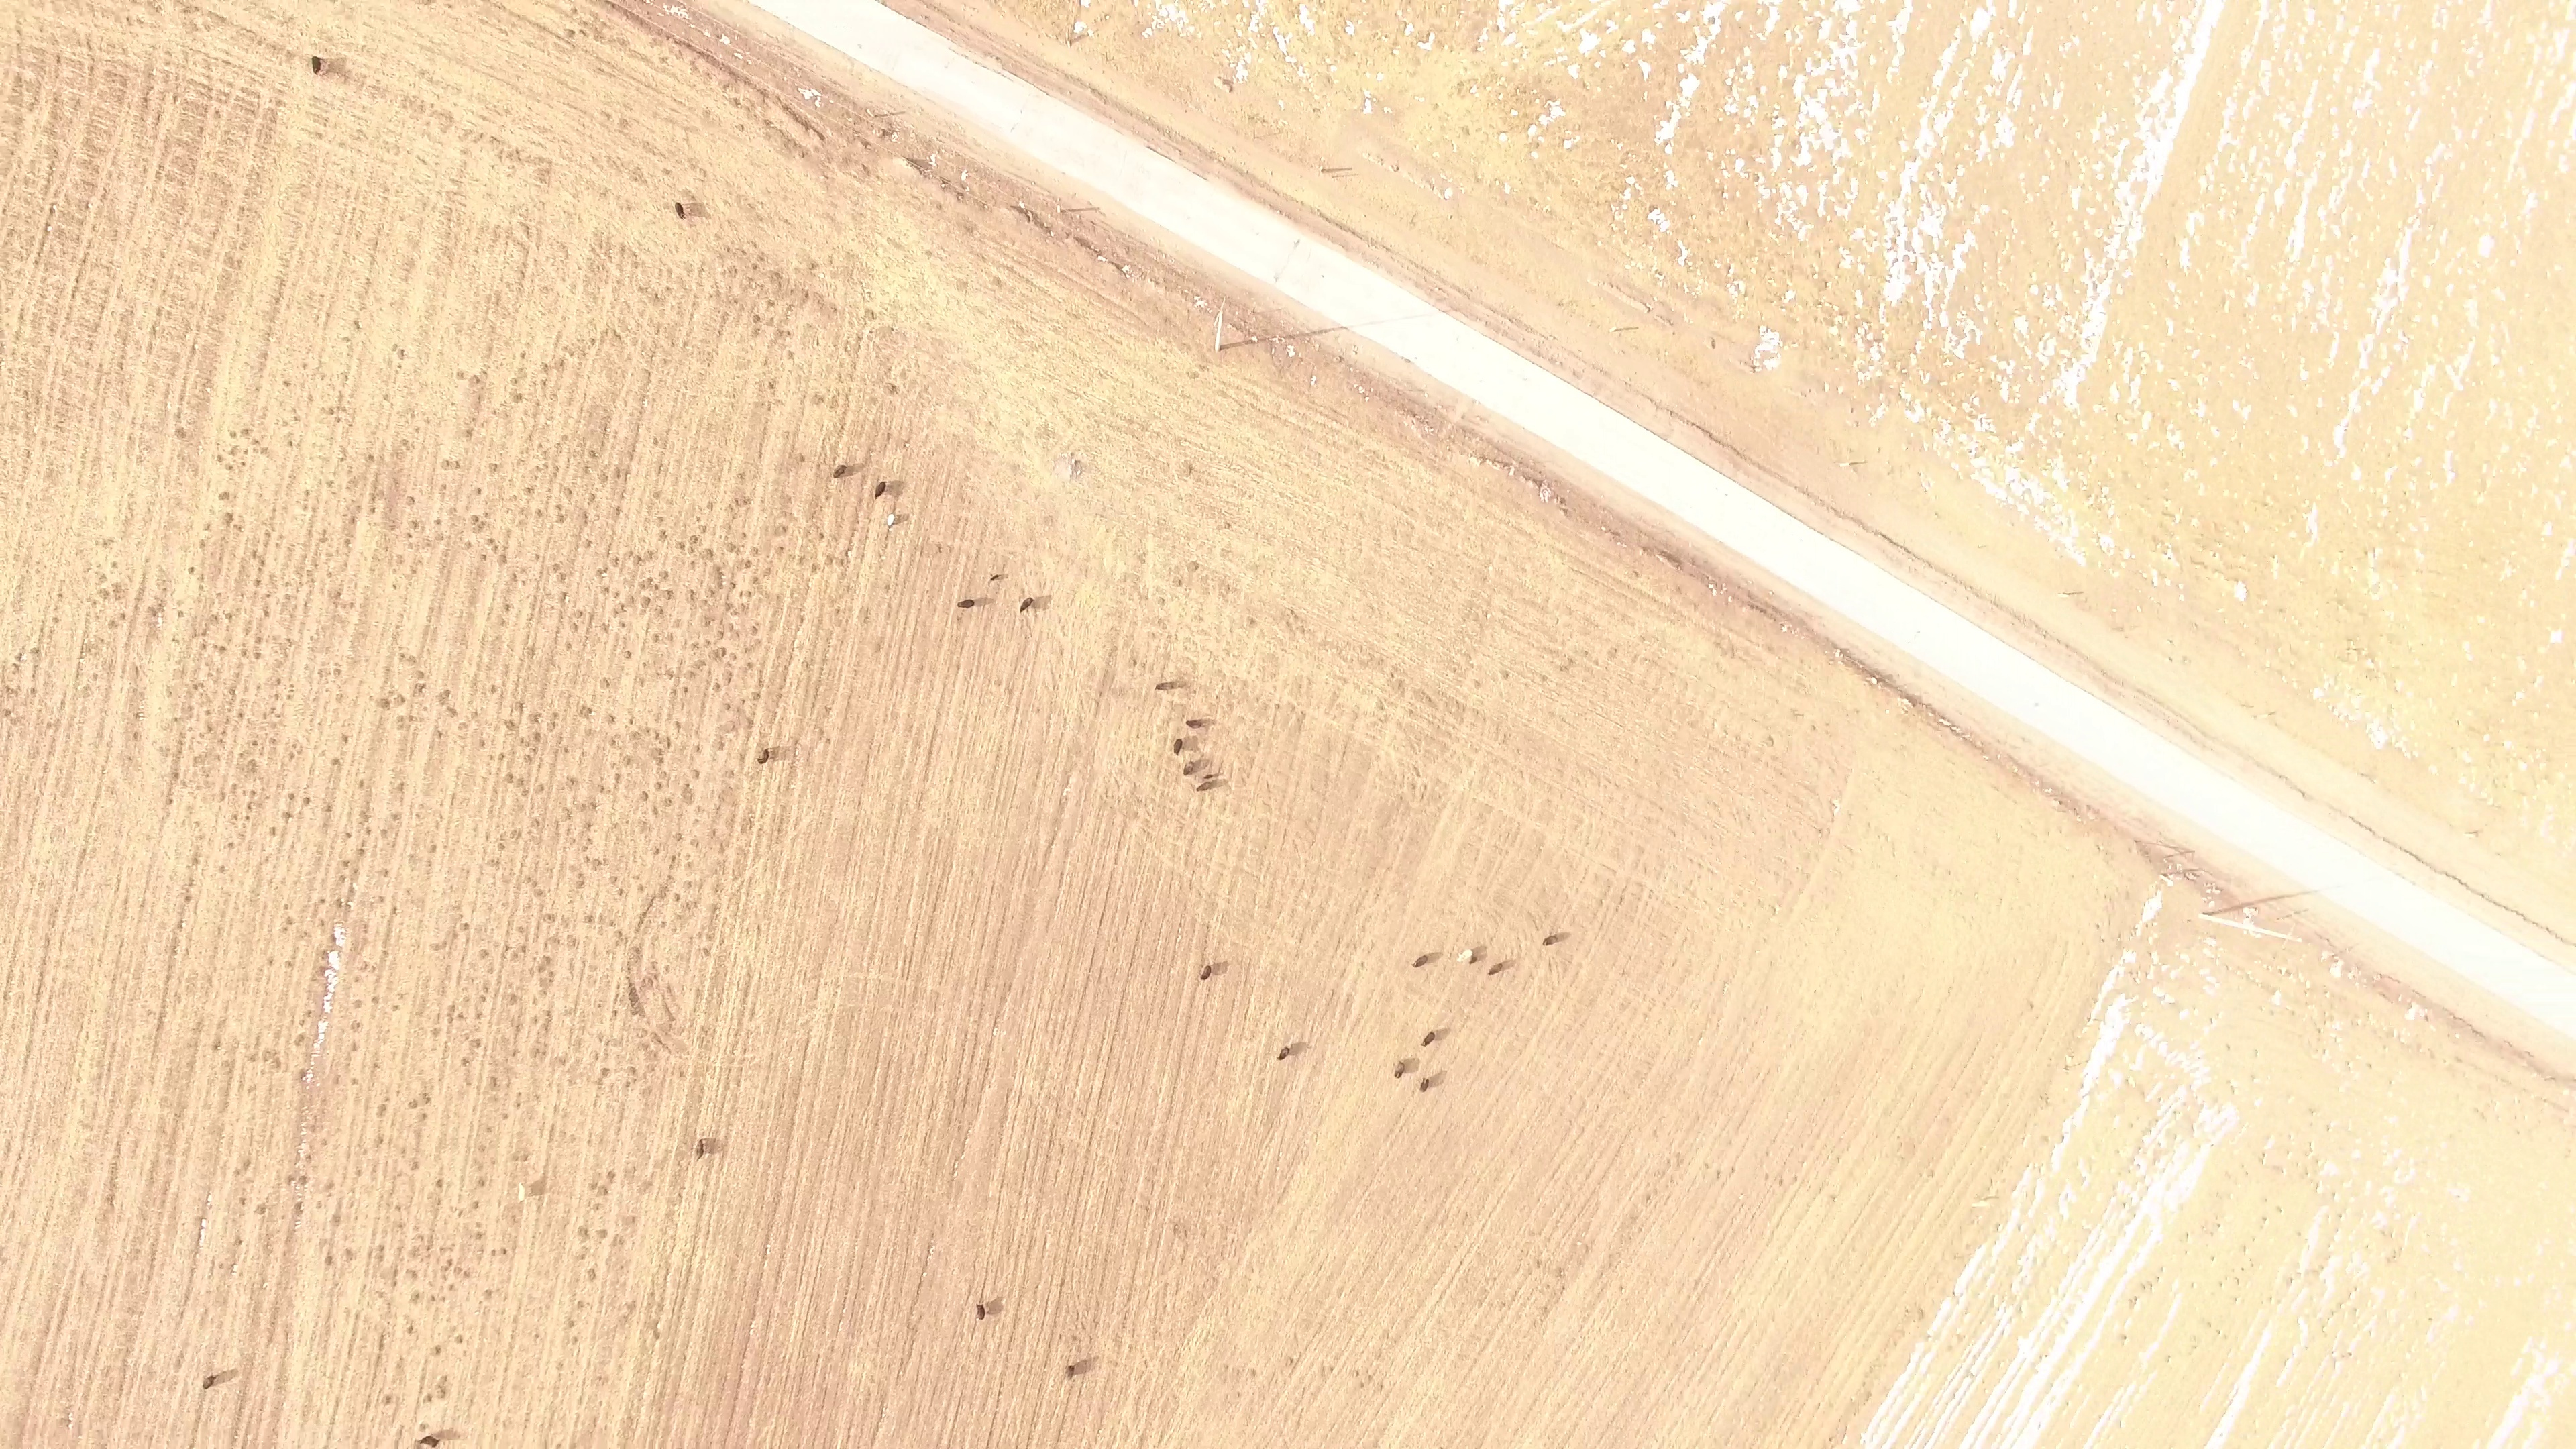sheep: (754, 744, 775, 767), (692, 1138, 710, 1163), (1181, 716, 1210, 733), (830, 461, 851, 482), (1409, 952, 1433, 970), (308, 52, 325, 78), (199, 1371, 220, 1393), (1420, 1028, 1440, 1049), (1179, 757, 1200, 779), (513, 1180, 530, 1203), (1486, 961, 1509, 978), (871, 478, 890, 500), (1152, 678, 1177, 693), (416, 1434, 441, 1449), (973, 1302, 991, 1323), (1197, 963, 1216, 983), (1017, 594, 1035, 616), (1454, 947, 1477, 963), (1541, 932, 1564, 949), (1391, 1061, 1409, 1080), (1275, 1044, 1293, 1063), (1171, 735, 1187, 757), (953, 596, 976, 611), (1417, 1077, 1434, 1095), (1194, 780, 1216, 794), (1470, 956, 1478, 965)
unknown: (1654, 545, 1687, 574), (1653, 108, 1681, 142), (1063, 1356, 1095, 1381), (1746, 598, 1784, 619), (790, 110, 815, 133), (2220, 899, 2255, 916), (319, 947, 342, 972), (625, 984, 645, 1012), (528, 1174, 549, 1199), (686, 193, 706, 220), (1679, 73, 1699, 99), (1522, 472, 1546, 490), (906, 155, 932, 172), (2133, 837, 2152, 858), (1701, 427, 1722, 446), (1073, 234, 1095, 252), (722, 62, 742, 81), (676, 38, 699, 55), (713, 563, 726, 592), (1216, 339, 1244, 353), (327, 926, 343, 946), (672, 199, 688, 221), (712, 645, 729, 661), (1220, 76, 1236, 95), (1267, 202, 1287, 217), (376, 1333, 387, 1354), (1688, 554, 1705, 572), (316, 963, 333, 979), (377, 696, 393, 712), (173, 425, 190, 441), (1334, 221, 1352, 235), (1284, 211, 1301, 225), (322, 1252, 336, 1269), (296, 1173, 309, 1188), (579, 703, 595, 716), (1837, 645, 1855, 661), (217, 489, 233, 502), (291, 1199, 305, 1218), (637, 908, 650, 926), (1640, 543, 1657, 555), (222, 509, 236, 528), (1550, 105, 1568, 119), (601, 1, 619, 12), (650, 1328, 663, 1342), (597, 1226, 610, 1241), (280, 809, 294, 822), (358, 808, 371, 822), (300, 794, 313, 808), (1794, 616, 1809, 629), (146, 604, 160, 619), (1745, 590, 1758, 604), (1405, 405, 1419, 420), (437, 1385, 449, 1401), (297, 1066, 309, 1081), (333, 896, 345, 911), (531, 729, 543, 745), (884, 511, 897, 528), (351, 317, 363, 332), (1664, 170, 1676, 185), (1241, 337, 1258, 347), (382, 1393, 394, 1407), (432, 1343, 444, 1357), (390, 1266, 401, 1280), (343, 1246, 355, 1260), (330, 1212, 343, 1226), (433, 1176, 445, 1191), (284, 1173, 299, 1185), (604, 1168, 618, 1183), (378, 1101, 389, 1114), (409, 1097, 421, 1111), (295, 1032, 307, 1045), (541, 953, 554, 968), (181, 892, 195, 905), (252, 649, 264, 663), (1828, 639, 1841, 653), (1782, 611, 1794, 625), (641, 594, 654, 606), (331, 589, 344, 602), (498, 551, 510, 566), (1557, 494, 1569, 507), (887, 382, 900, 397), (1244, 189, 1258, 201), (1662, 143, 1675, 156), (879, 127, 894, 140), (801, 88, 814, 102), (708, 55, 720, 68), (565, 26, 578, 41), (627, 13, 642, 24), (1310, 327, 1326, 338), (423, 1392, 435, 1405), (498, 1246, 510, 1258), (376, 1242, 387, 1254), (324, 1180, 336, 1192), (369, 994, 382, 1006), (461, 920, 472, 933), (174, 920, 186, 932), (340, 858, 352, 870), (189, 855, 201, 867), (356, 845, 368, 858), (162, 796, 176, 808), (395, 783, 407, 794), (170, 769, 182, 782), (329, 755, 342, 768), (397, 694, 408, 706), (441, 687, 453, 700), (189, 681, 201, 693), (415, 669, 427, 682), (744, 659, 755, 672), (216, 643, 229, 656), (989, 572, 1002, 584), (470, 513, 482, 526), (796, 453, 808, 465), (325, 405, 337, 418), (771, 269, 784, 282), (816, 131, 828, 144), (12, 73, 25, 85), (696, 48, 708, 60), (668, 4, 681, 15), (483, 1287, 494, 1300), (257, 1203, 268, 1217), (599, 1065, 611, 1079), (272, 1056, 284, 1071), (389, 904, 400, 918), (668, 852, 679, 867), (428, 842, 439, 856), (324, 802, 334, 815), (248, 760, 259, 775), (663, 736, 674, 749), (130, 729, 142, 743), (446, 705, 460, 717), (252, 634, 264, 647), (1190, 558, 1202, 572), (347, 513, 358, 527), (1283, 331, 1297, 342), (896, 157, 909, 168), (1076, 1, 1091, 8), (454, 1334, 466, 1346), (405, 1324, 416, 1336), (566, 1318, 577, 1330), (411, 1291, 423, 1303), (409, 1268, 420, 1281), (444, 1256, 455, 1269), (488, 1248, 498, 1259), (600, 1185, 611, 1198), (588, 1181, 600, 1193), (243, 1158, 253, 1169), (419, 1110, 429, 1123), (488, 1073, 500, 1087), (210, 1040, 221, 1053), (472, 1036, 484, 1050), (447, 1003, 458, 1015), (321, 999, 333, 1012), (326, 982, 337, 995), (519, 943, 529, 955), (449, 930, 460, 943), (217, 863, 227, 875), (378, 826, 390, 838), (285, 790, 297, 802), (356, 778, 366, 790), (623, 755, 634, 767), (655, 755, 666, 767), (1968, 740, 1979, 751), (339, 732, 351, 745), (745, 717, 757, 728), (405, 712, 416, 724), (1935, 712, 1948, 722), (2, 707, 14, 719), (1927, 706, 1939, 717), (681, 684, 691, 696), (200, 626, 210, 638), (1247, 616, 1258, 627), (261, 608, 272, 620), (253, 577, 263, 588), (1697, 574, 1707, 585), (249, 547, 260, 559), (197, 540, 208, 551), (484, 535, 496, 547), (1609, 529, 1622, 539), (411, 519, 421, 531), (893, 515, 905, 527), (1544, 480, 1555, 491), (612, 467, 623, 480), (225, 462, 236, 474), (453, 461, 463, 472), (1500, 459, 1513, 470), (365, 452, 377, 464), (464, 427, 475, 439), (241, 426, 252, 438), (765, 381, 777, 392), (280, 378, 291, 388), (753, 313, 763, 325), (272, 294, 283, 307), (1112, 261, 1124, 272), (808, 261, 818, 272), (750, 261, 760, 273), (1888, 236, 1900, 246), (522, 223, 532, 235), (1648, 211, 1660, 222), (46, 205, 56, 217), (954, 189, 966, 199), (959, 170, 969, 182), (542, 166, 553, 176), (1561, 140, 1573, 151), (859, 138, 872, 149), (780, 138, 792, 151), (140, 94, 151, 106), (757, 88, 770, 100), (1088, 85, 1101, 96), (118, 78, 130, 89), (1640, 62, 1651, 74), (722, 36, 733, 47), (1066, 36, 1077, 46), (1072, 23, 1083, 36), (217, 14, 228, 26), (619, 6, 631, 18), (390, 811, 400, 824), (1357, 1380, 1367, 1391), (1249, 1368, 1259, 1378), (625, 1302, 636, 1312), (575, 1298, 586, 1309), (428, 1294, 438, 1304), (460, 1269, 470, 1279), (578, 1252, 588, 1263), (376, 1252, 386, 1263), (580, 1226, 591, 1236), (195, 1214, 205, 1224), (237, 1195, 248, 1205), (1644, 1192, 1654, 1203), (477, 1179, 488, 1189), (411, 1161, 421, 1172), (510, 1152, 520, 1163), (521, 1151, 531, 1163), (423, 1095, 433, 1106), (419, 1090, 429, 1100), (676, 1069, 686, 1080), (629, 1065, 639, 1075), (370, 1061, 381, 1071), (247, 1054, 258, 1065), (349, 1044, 359, 1054), (317, 1031, 327, 1042), (2469, 1026, 2479, 1036), (154, 1021, 164, 1032), (353, 1020, 363, 1030), (629, 1008, 641, 1018), (508, 991, 519, 1002), (163, 972, 173, 983), (545, 969, 556, 980), (36, 969, 46, 980), (535, 963, 547, 973), (481, 949, 492, 959), (168, 947, 178, 957), (632, 945, 642, 955), (337, 936, 347, 947), (284, 916, 294, 928), (317, 896, 328, 906), (534, 888, 545, 899), (186, 879, 196, 890), (2179, 866, 2190, 877), (350, 866, 360, 877), (2157, 855, 2167, 865), (497, 842, 507, 852), (225, 840, 236, 851), (343, 830, 354, 841), (363, 826, 374, 837), (244, 801, 254, 812), (589, 800, 599, 810), (2056, 798, 2067, 808), (506, 771, 516, 782), (692, 769, 702, 780), (717, 739, 727, 750), (249, 737, 260, 749), (476, 737, 487, 747), (1961, 735, 1971, 746), (1951, 729, 1963, 739), (44, 720, 54, 730), (531, 714, 541, 725), (131, 710, 142, 722), (551, 710, 561, 720), (235, 710, 246, 720), (753, 690, 763, 700), (669, 686, 680, 696), (488, 684, 498, 695), (713, 682, 723, 692), (687, 669, 697, 679), (698, 658, 708, 669), (52, 615, 62, 626), (117, 610, 128, 621), (155, 600, 166, 610), (559, 589, 570, 600), (111, 586, 121, 596), (602, 584, 612, 594), (651, 582, 661, 593), (645, 576, 655, 586), (409, 567, 419, 577), (634, 554, 645, 564), (706, 547, 716, 558), (677, 541, 688, 553), (343, 536, 354, 547), (319, 535, 329, 545), (817, 531, 827, 541), (1854, 517, 1864, 527), (433, 517, 443, 527), (556, 515, 567, 525), (1560, 506, 1570, 517), (368, 505, 378, 516), (368, 494, 378, 504), (474, 486, 484, 497), (1733, 448, 1743, 459), (241, 447, 251, 458), (227, 430, 239, 441), (473, 376, 484, 386), (1548, 356, 1558, 366), (1336, 354, 1346, 364), (1872, 352, 1882, 362), (259, 350, 269, 361), (397, 346, 407, 358), (767, 299, 777, 309), (802, 290, 812, 301), (1095, 248, 1106, 259), (1317, 211, 1327, 221), (1623, 192, 1633, 202), (535, 154, 547, 165), (1789, 138, 1800, 149), (197, 124, 207, 134), (780, 103, 792, 113), (341, 72, 352, 83), (87, 64, 97, 74), (54, 56, 64, 66), (180, 5, 192, 16), (191, 4, 202, 14), (440, 1373, 450, 1385), (317, 1020, 329, 1030), (455, 1012, 466, 1022), (346, 884, 356, 896), (507, 719, 517, 730), (516, 700, 526, 711), (199, 641, 209, 652), (187, 563, 197, 575), (1871, 529, 1882, 539), (1071, 457, 1081, 468), (259, 445, 270, 455), (1296, 330, 1309, 340), (1324, 166, 1336, 176), (419, 1422, 429, 1432), (265, 1336, 275, 1346), (532, 1331, 542, 1341), (390, 1279, 400, 1289), (476, 1231, 486, 1241), (472, 1199, 482, 1211), (304, 1152, 314, 1162), (375, 1134, 385, 1144), (623, 1079, 633, 1089), (460, 1055, 470, 1065), (533, 1046, 543, 1057), (645, 976, 655, 986), (651, 972, 661, 982), (266, 957, 276, 967), (2205, 909, 2216, 919), (79, 845, 89, 857), (515, 829, 525, 839), (2084, 802, 2094, 812), (682, 780, 692, 791), (737, 754, 747, 764), (653, 730, 663, 740), (205, 724, 215, 734), (28, 686, 38, 697), (415, 685, 425, 696), (274, 676, 284, 687), (132, 667, 142, 678), (586, 612, 596, 622), (656, 608, 666, 618), (1044, 592, 1055, 602), (102, 589, 112, 599), (751, 574, 761, 584), (557, 573, 568, 583), (596, 567, 606, 578), (109, 559, 119, 570), (691, 534, 701, 544), (535, 509, 545, 519), (1832, 508, 1842, 519), (286, 439, 296, 449), (1409, 397, 1419, 407), (512, 396, 522, 406), (541, 360, 551, 372), (557, 359, 567, 370), (1534, 349, 1544, 360), (1286, 348, 1297, 358), (189, 344, 199, 355), (588, 336, 598, 346), (1258, 335, 1269, 345), (1215, 314, 1225, 324), (1785, 291, 1796, 301), (994, 276, 1004, 286), (1349, 228, 1359, 238), (42, 228, 52, 238), (1059, 207, 1069, 217), (1737, 159, 1747, 169), (15, 115, 25, 125), (812, 99, 822, 109), (170, 93, 180, 103), (812, 89, 822, 99), (818, 84, 828, 94), (981, 49, 992, 59), (1697, 44, 1707, 54), (1074, 33, 1084, 43), (570, 7, 580, 17), (423, 1, 435, 7), (645, 1179, 655, 1189), (479, 994, 489, 1004), (615, 930, 625, 940), (674, 721, 684, 731), (90, 672, 100, 682), (1515, 458, 1525, 468), (757, 254, 767, 264), (879, 1, 889, 7), (568, 1443, 578, 1449)
